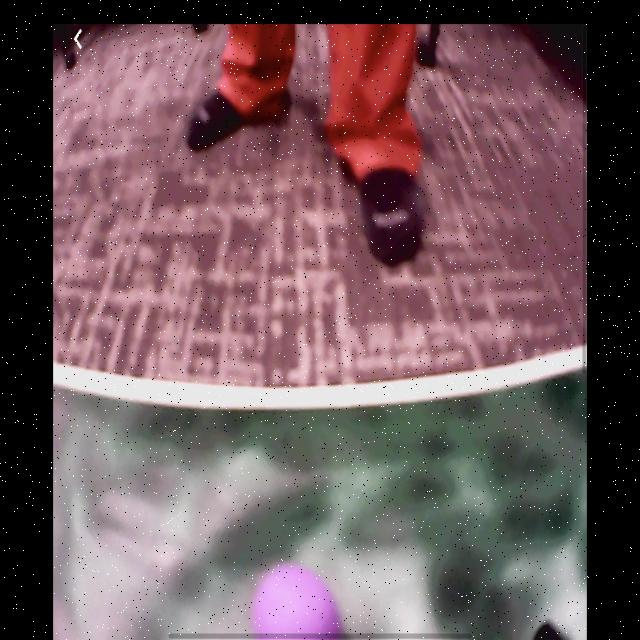ball: (252, 567, 343, 637)
